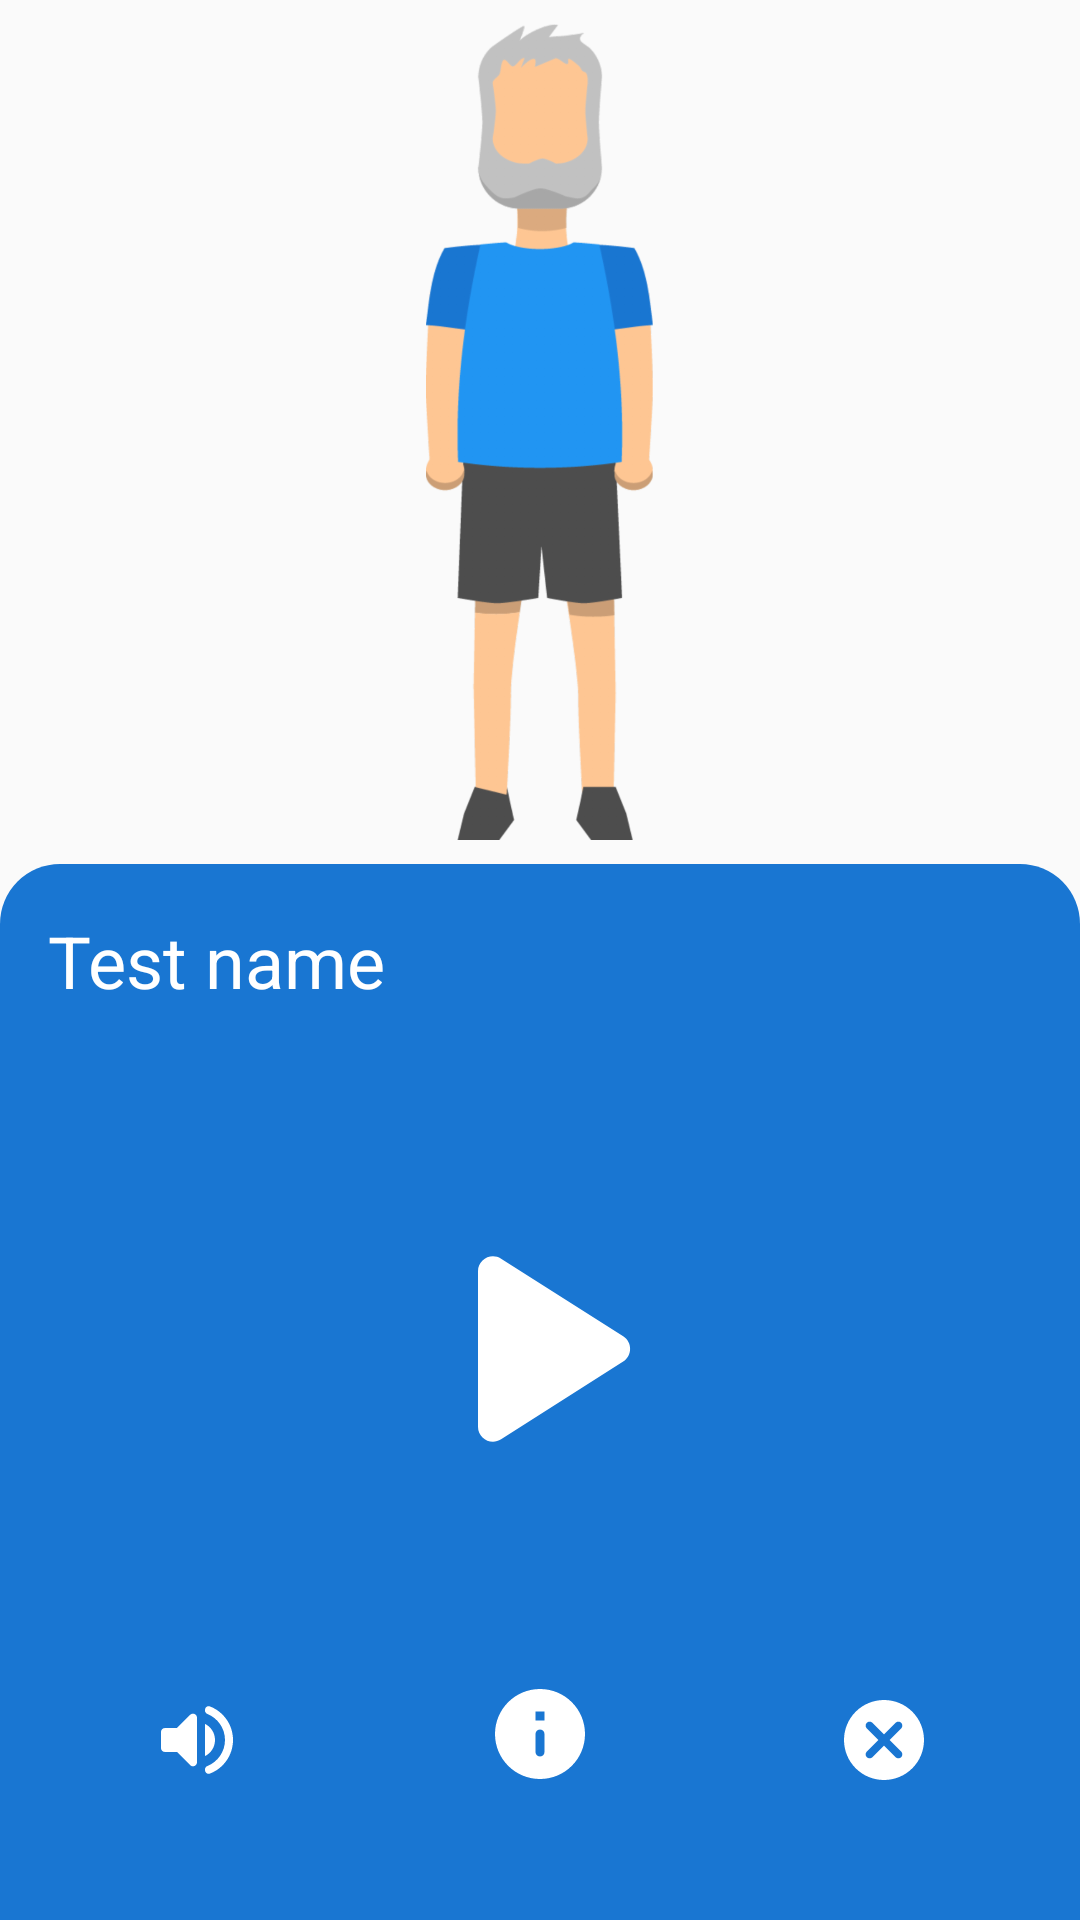

Icons on this 1080w x 1920h Android screen, each with the point to tap as [x,y]:
Information: [540,1734]
Mute sound: [197,1740]
Play: [554,1349]
Unable to perform test: [884,1740]
